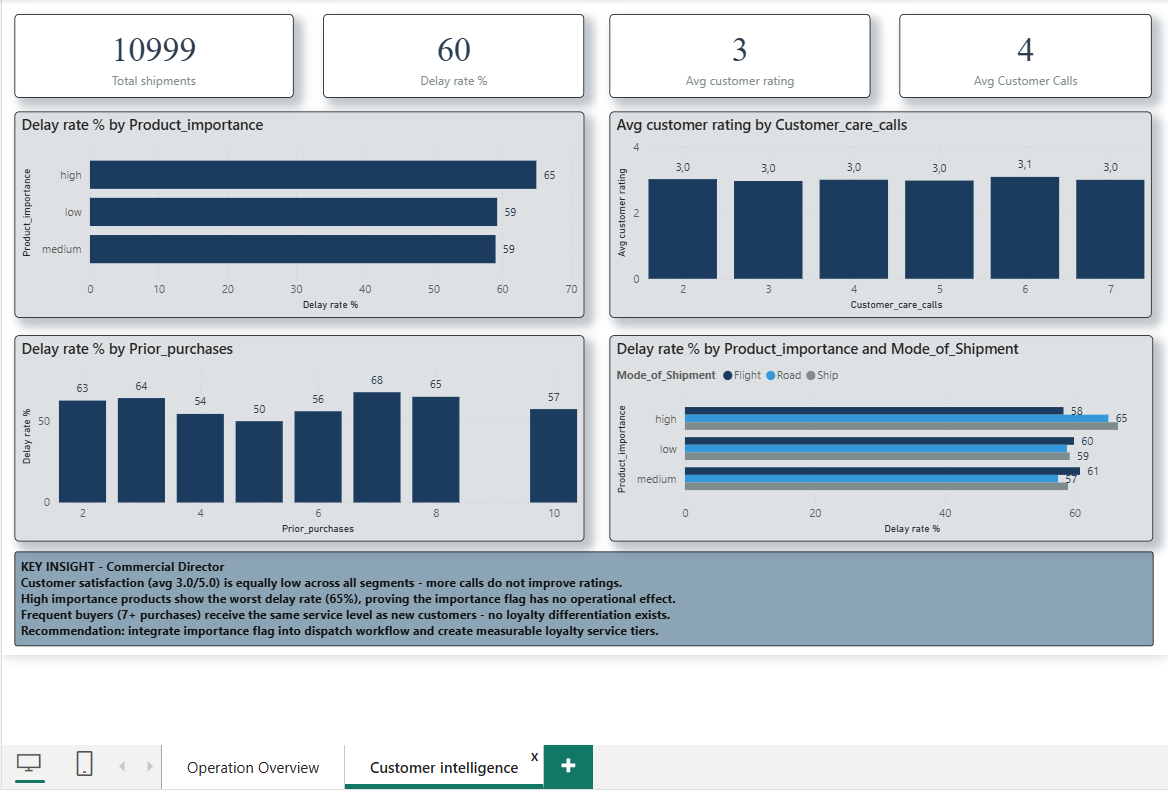

What the dashboard file says about the page in this screenshot:
{"tool":"powerbi","page":{"name":"Customer intelligence","canvas":[1280,720],"ordinal":1},"visuals":[{"type":"card","fields":{"Values":["E-commerce data.Avg Customer Calls"]},"box":[985.3,16.5,277.2,91.9],"z":0},{"type":"card","fields":{"Values":["E-commerce data.Avg customer rating"]},"box":[666.9,16.5,286.8,91.9],"z":1},{"type":"card","fields":{"Values":["E-commerce data.Delay rate %"]},"box":[352.7,16.5,286.8,91.9],"z":2},{"type":"card","fields":{"Values":["E-commerce data.Total shipments"]},"box":[13.7,16.5,306,91.9],"z":3},{"type":"clusteredBarChart","fields":{"Y":["E-commerce data.Delay rate %"],"Category":["E-commerce data.Product_importance"]},"box":[13.7,123.5,625.7,226.4],"z":4},{"type":"clusteredBarChart","fields":{"Y":["E-commerce data.Delay rate %"],"Category":["E-commerce data.Product_importance"],"Series":["E-commerce data.Mode_of_Shipment"]},"box":[666.9,369.1,596.9,226.4],"z":5},{"type":"clusteredColumnChart","fields":{"Y":["E-commerce data.Delay rate %"],"Category":["E-commerce data.Prior_purchases"]},"box":[13.7,369.1,625.7,226.4],"z":6},{"type":"clusteredColumnChart","fields":{"Category":["E-commerce data.Customer_care_calls"],"Y":["E-commerce data.Avg customer rating"]},"box":[666.9,123.5,595.5,226.4],"z":7},{"type":"textbox","box":[13.7,606.5,1250.1,104.3],"z":8}]}

Visuals, with their boxes on the page's 1280x720 design canvas (x1, y1, x2, y2). These are canvas units, not pixel positions in the 1168x790 screenshot, which may show the page scaled, cropped or inside an application window:
card - E-commerce data.Avg Customer Calls: rect(985, 16, 1262, 108)
card - E-commerce data.Avg customer rating: rect(667, 16, 954, 108)
card - E-commerce data.Delay rate %: rect(353, 16, 640, 108)
card - E-commerce data.Total shipments: rect(14, 16, 320, 108)
clusteredBarChart - E-commerce data.Delay rate % x E-commerce data.Product_importance: rect(14, 124, 639, 350)
clusteredBarChart - E-commerce data.Delay rate % x E-commerce data.Product_importance: rect(667, 369, 1264, 596)
clusteredColumnChart - E-commerce data.Delay rate % x E-commerce data.Prior_purchases: rect(14, 369, 639, 596)
clusteredColumnChart - E-commerce data.Customer_care_calls x E-commerce data.Avg customer rating: rect(667, 124, 1262, 350)
textbox: rect(14, 606, 1264, 711)
